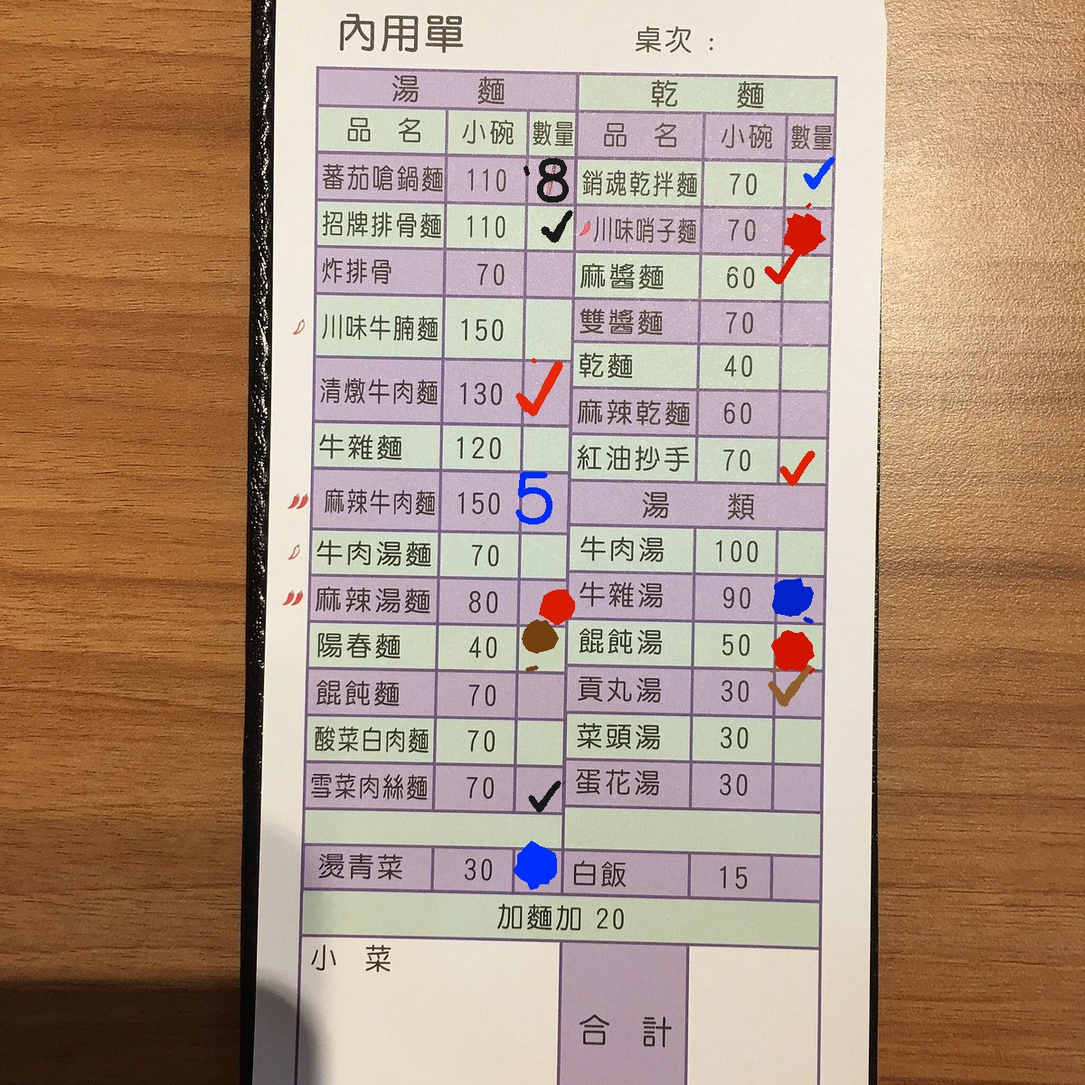marked_circle: (775, 575, 823, 621), (782, 206, 830, 252), (775, 623, 823, 669), (517, 580, 565, 626), (517, 623, 565, 669), (514, 846, 561, 892)
marked_number_5: (519, 470, 565, 533)
marked_number_8: (525, 156, 573, 203)
marked_tick: (521, 360, 567, 422), (525, 203, 573, 250), (780, 255, 828, 301), (772, 670, 820, 716), (786, 159, 834, 205), (514, 762, 562, 808), (778, 436, 826, 482)
